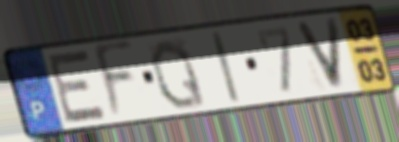7: (254, 23, 294, 96)
E: (46, 47, 109, 127)
F: (91, 37, 137, 125)
I: (209, 29, 243, 107)
Q: (148, 37, 209, 112)
V: (291, 15, 347, 92)
